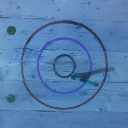Axe Tip: (78, 75, 89, 78)
